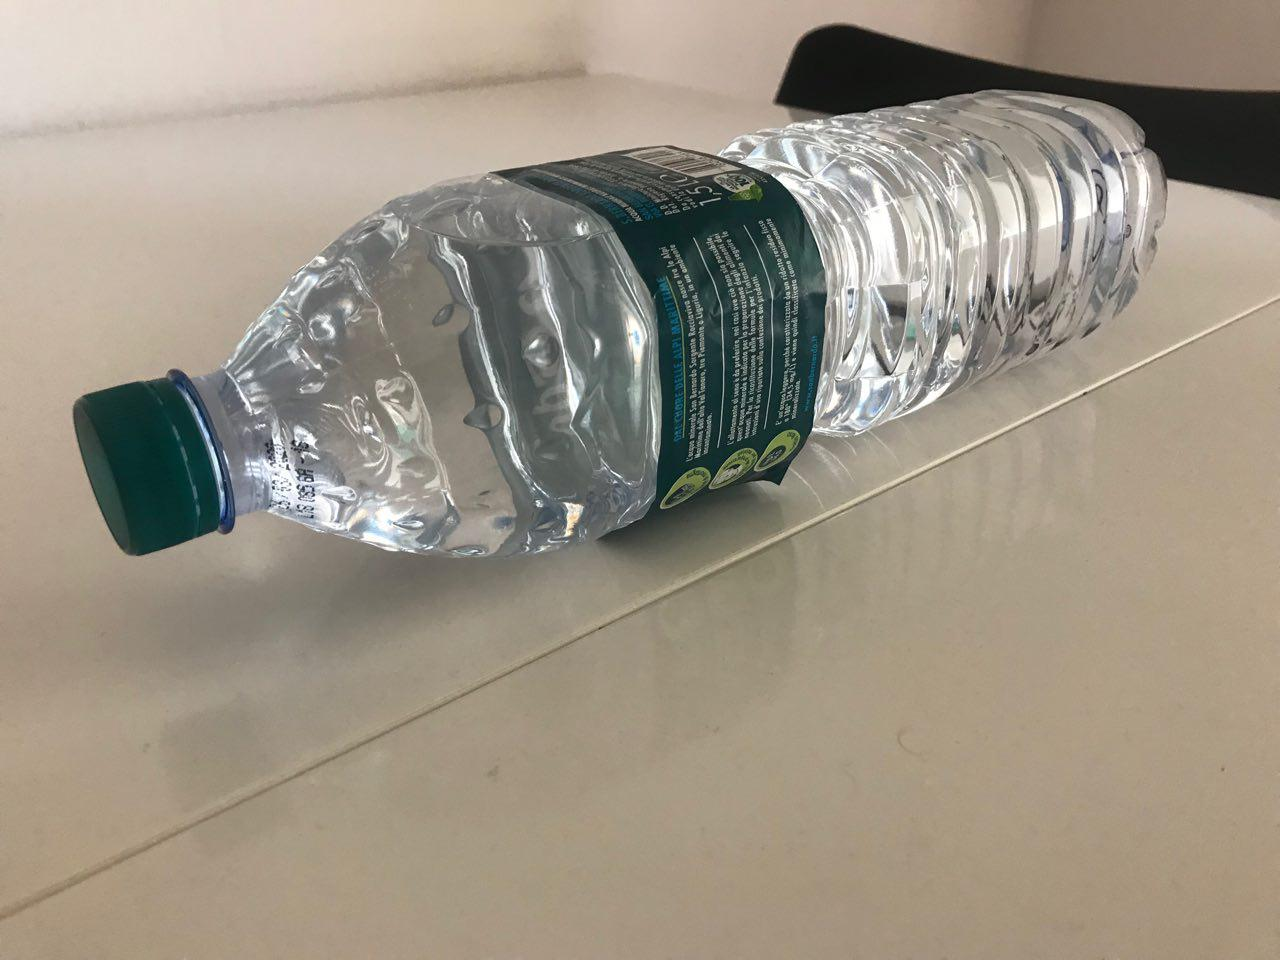san_bernardo: (71, 87, 1169, 562)
